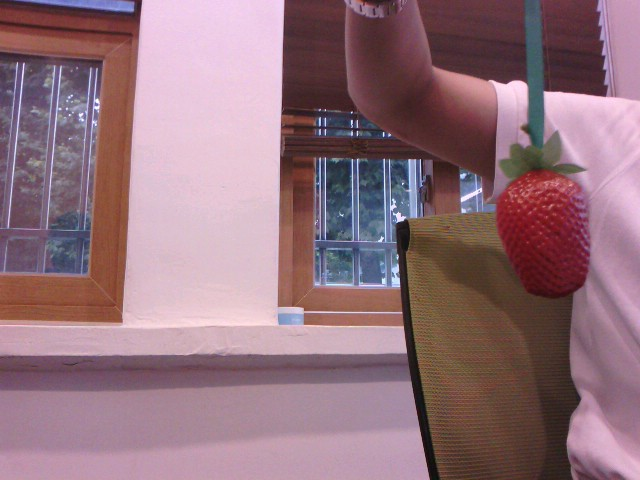strawberry: (490, 154, 597, 296)
